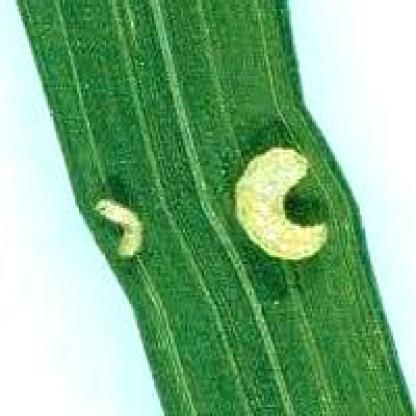whorl-maggot: (225, 143, 334, 264), (92, 190, 150, 272)
